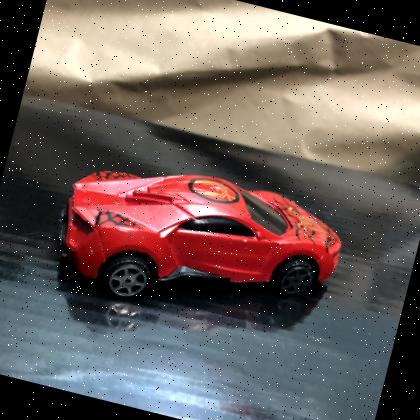Car: (58, 171, 341, 299)
